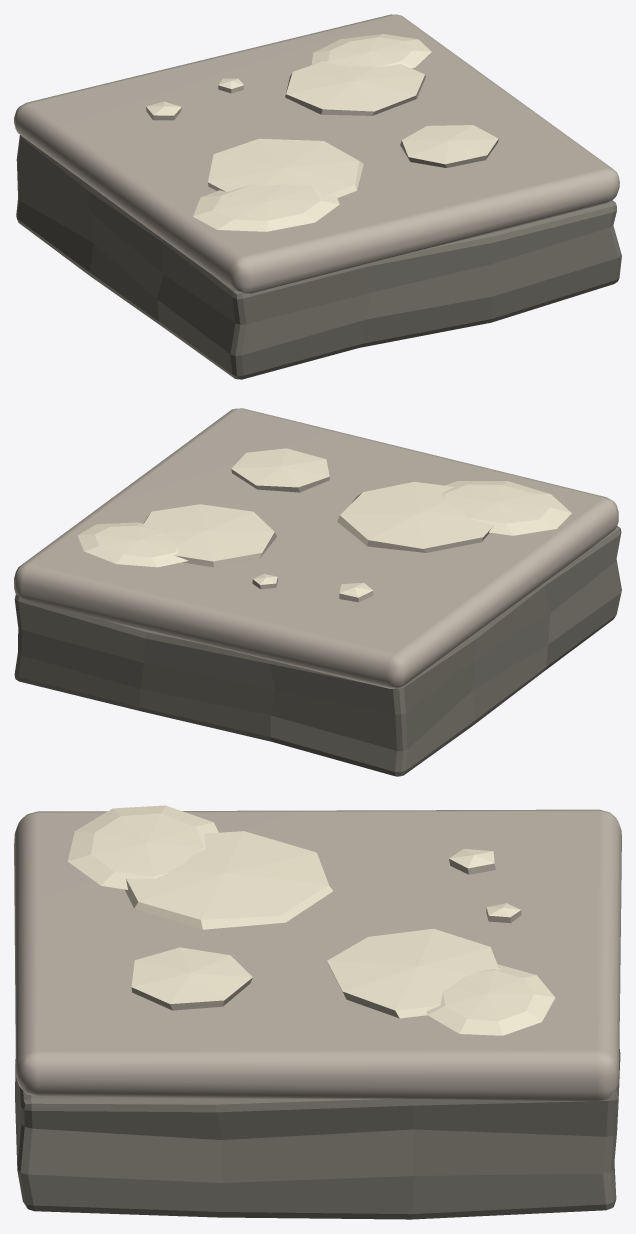
File: tile_frosted_stone.glb
3 views of the same model, one above another, from view 1: azimuth 30°, elevation 25°; view 2: azimuth 150°, elevation 25°; view 3: azimuth 270°, elevation 25° (orthographic). The views are drawn at different scales.
Visible parts, largest first — view 1: froststone_cap, froststone_body, froststone_slab_0, froststone_slab_1, froststone_snow_0, froststone_slab_2, froststone_snow_1, froststone_peb_a; view 2: froststone_cap, froststone_body, froststone_slab_0, froststone_slab_1, froststone_snow_0, froststone_snow_1, froststone_slab_2, froststone_peb_a; view 3: froststone_cap, froststone_body, froststone_slab_0, froststone_slab_1, froststone_snow_0, froststone_snow_1, froststone_slab_2, froststone_peb_a, froststone_peb_b.
Boxes of the visible parts, x1,y1,x2,y2 form: froststone_cap: [14, 14, 619, 293]; froststone_body: [16, 135, 621, 379]; froststone_slab_0: [208, 138, 363, 197]; froststone_slab_1: [285, 61, 425, 115]; froststone_snow_0: [193, 184, 339, 231]; froststone_slab_2: [400, 125, 498, 167]; froststone_snow_1: [311, 34, 431, 68]; froststone_peb_a: [146, 101, 181, 120]; froststone_cap: [14, 408, 618, 688]; froststone_body: [14, 526, 621, 776]; froststone_slab_0: [337, 481, 493, 552]; froststone_slab_1: [142, 504, 276, 567]; froststone_snow_0: [442, 481, 571, 535]; froststone_snow_1: [77, 522, 188, 567]; froststone_slab_2: [231, 448, 329, 492]; froststone_peb_a: [339, 582, 373, 602]; froststone_cap: [14, 809, 621, 1101]; froststone_body: [15, 1049, 620, 1219]; froststone_slab_0: [125, 831, 332, 929]; froststone_slab_1: [327, 928, 499, 1018]; froststone_snow_0: [67, 805, 218, 889]; froststone_snow_1: [427, 964, 555, 1035]; froststone_slab_2: [131, 947, 252, 1010]; froststone_peb_a: [449, 849, 495, 874]; froststone_peb_b: [486, 903, 521, 923].
Bounding box in the file's own units: 1.71 × 0.5599 × 1.71.
